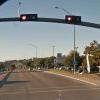Traffic light: (11, 9, 86, 29)
